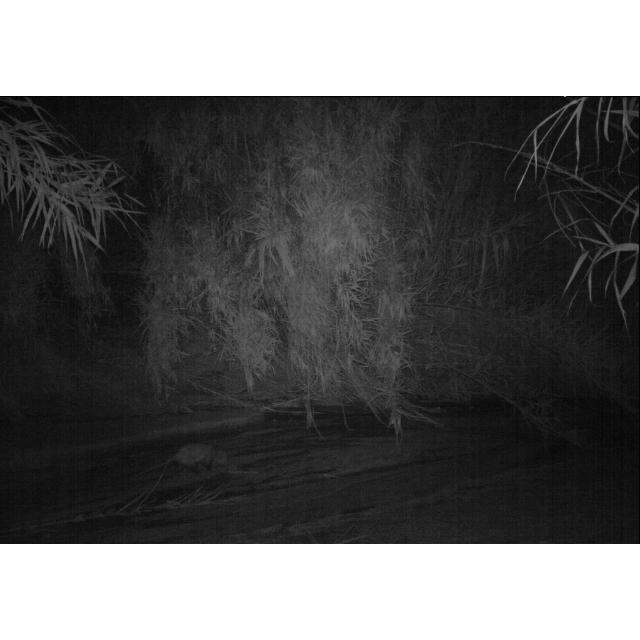animals: (147, 441, 226, 475)
